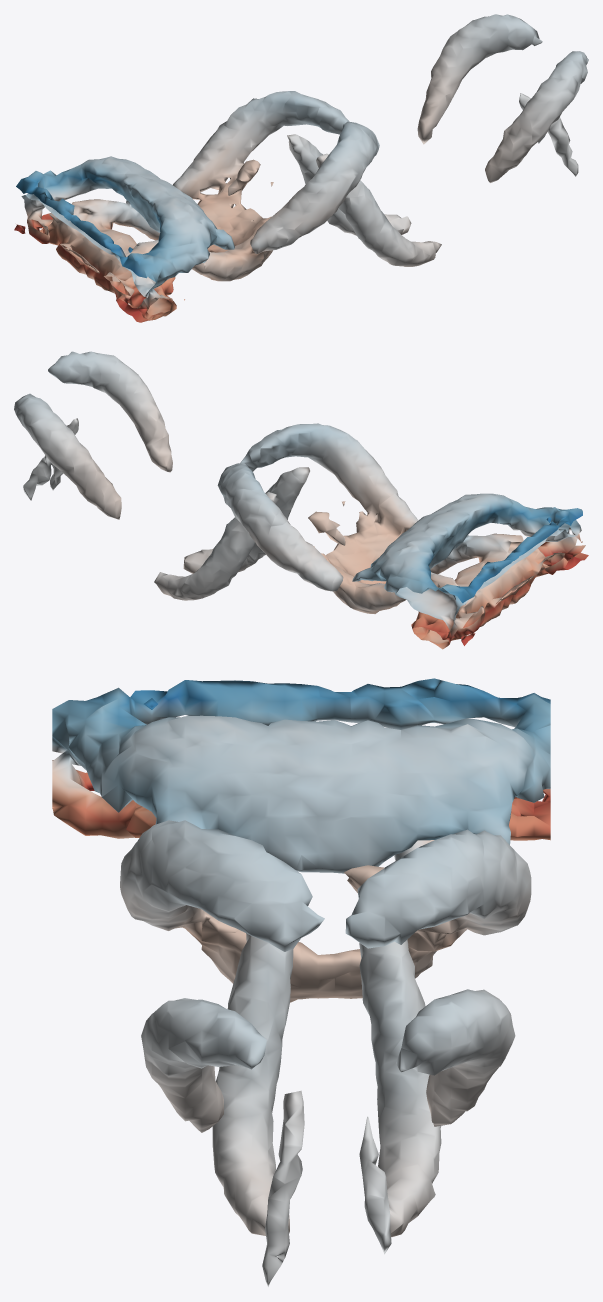
3 renders of one model, top to bottom at view 1: azimuth 30°, elevation 25°; view 2: azimuth 150°, elevation 25°; view 3: azimuth 270°, elevation 25°, orthographic. The views are drawn at different scales.
Size of the model in its own units: 5.71 by 2 by 2.5.
